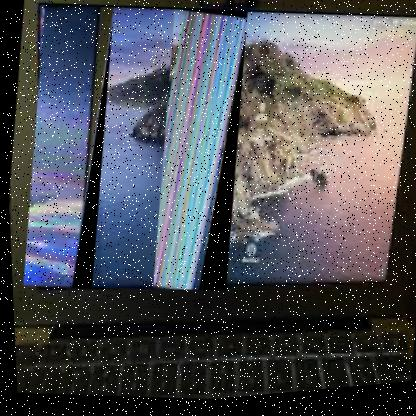fade: (10, 1, 124, 295)
lines: (140, 7, 257, 301)
